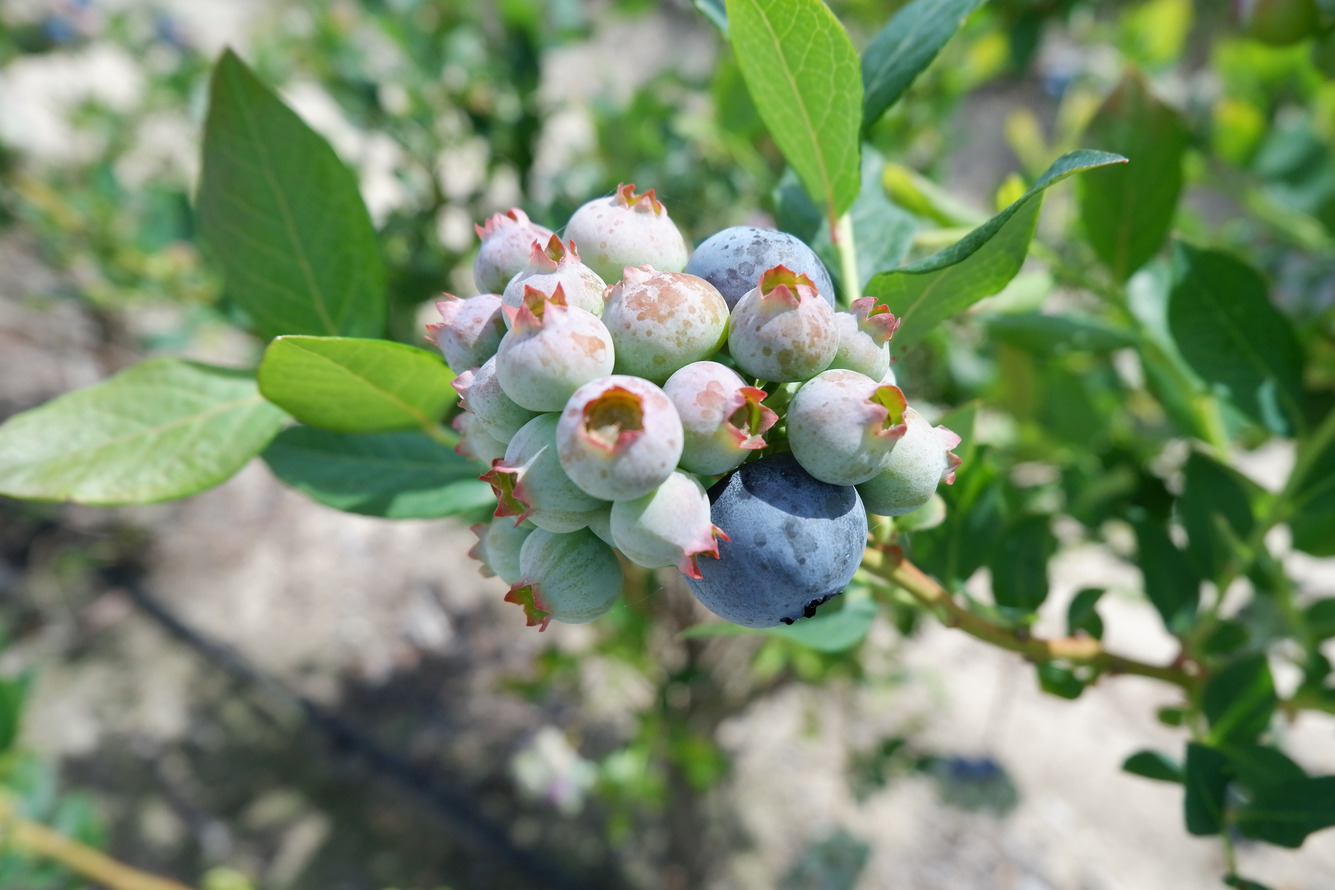Immature: (499, 282, 616, 409), (559, 378, 682, 497), (601, 269, 730, 382), (476, 422, 600, 530), (789, 371, 900, 482), (730, 273, 838, 382), (563, 185, 687, 279), (665, 363, 771, 471), (506, 528, 622, 626), (610, 474, 717, 578), (501, 235, 607, 330), (863, 409, 957, 515), (449, 354, 547, 446), (426, 296, 503, 379), (476, 211, 551, 293), (835, 301, 894, 381), (470, 516, 536, 585), (453, 412, 509, 468), (588, 500, 618, 547)
Mature: (692, 457, 865, 624), (688, 228, 833, 304)
